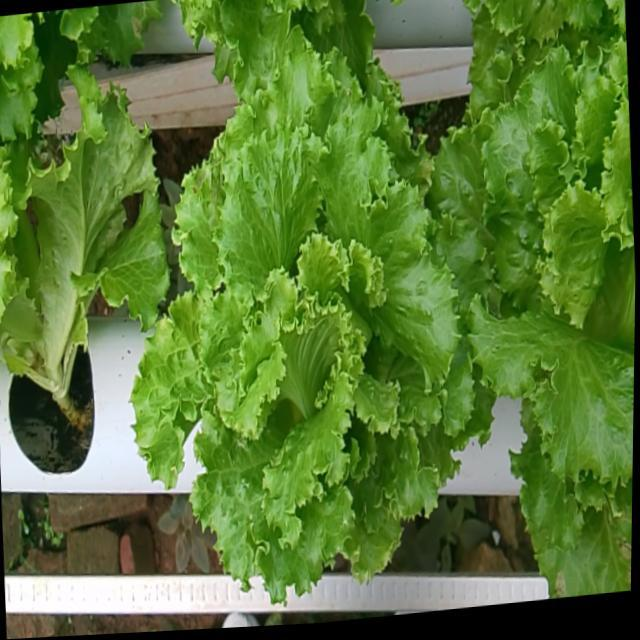Mature: (136, 62, 480, 616), (437, 57, 635, 503)
